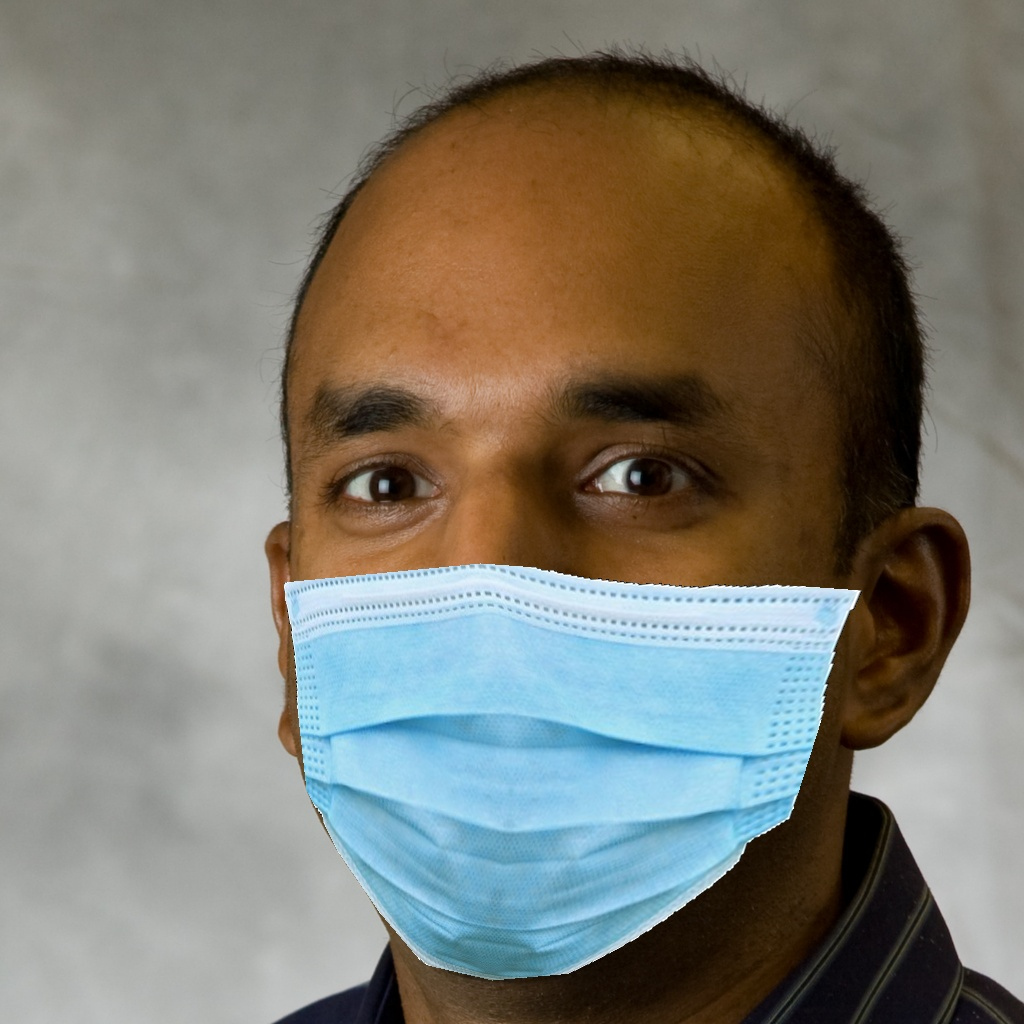Mask: (279, 336, 862, 985)
